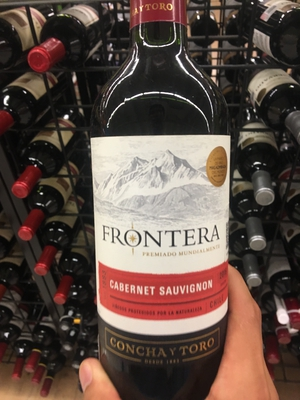frontera cabernet sauvignon: (83, 7, 243, 386)
